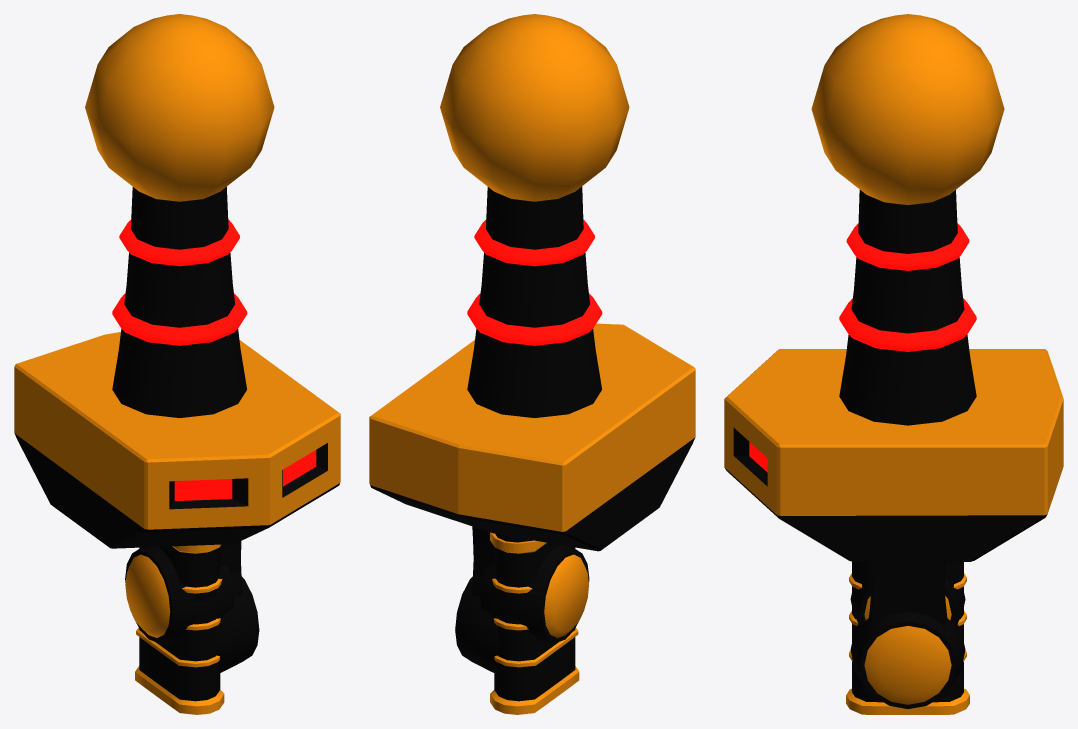
File: Heavy Parts.fbx
3 renders of one model, left to right at view 1: azimuth 30°, elevation 25°; view 2: azimuth 150°, elevation 25°; view 3: azimuth 270°, elevation 25°, orthographic.
Parts seen in each view (by area): view 1: Tesla_Tower, Head_Heavy, Leg_Heavy_02, Bone_Heavy, Hip_Heavy, Leg_Heavy_01; view 2: Tesla_Tower, Head_Heavy, Leg_Heavy_02, Bone_Heavy, Hip_Heavy, Leg_Heavy_01; view 3: Tesla_Tower, Head_Heavy, Hip_Heavy, Leg_Heavy_02, Bone_Heavy, Leg_Heavy_01.
Part boxes in pixels (left/top/right/bottom): Tesla_Tower: left=85, top=14, right=274, bottom=417; Head_Heavy: left=14, top=332, right=340, bottom=548; Leg_Heavy_02: left=135, top=546, right=224, bottom=706; Bone_Heavy: left=125, top=547, right=234, bottom=643; Hip_Heavy: left=214, top=541, right=259, bottom=672; Leg_Heavy_01: left=135, top=544, right=224, bottom=714; Tesla_Tower: left=440, top=14, right=629, bottom=417; Head_Heavy: left=369, top=323, right=695, bottom=551; Leg_Heavy_02: left=490, top=542, right=579, bottom=706; Bone_Heavy: left=480, top=545, right=589, bottom=643; Hip_Heavy: left=455, top=526, right=499, bottom=672; Leg_Heavy_01: left=490, top=532, right=579, bottom=714; Tesla_Tower: left=811, top=14, right=1004, bottom=425; Head_Heavy: left=724, top=349, right=1063, bottom=561; Hip_Heavy: left=850, top=562, right=965, bottom=708; Leg_Heavy_02: left=846, top=561, right=969, bottom=706; Bone_Heavy: left=850, top=577, right=965, bottom=625; Leg_Heavy_01: left=846, top=695, right=969, bottom=714.
Size of the model in its own units: 120 by 391 by 176.
